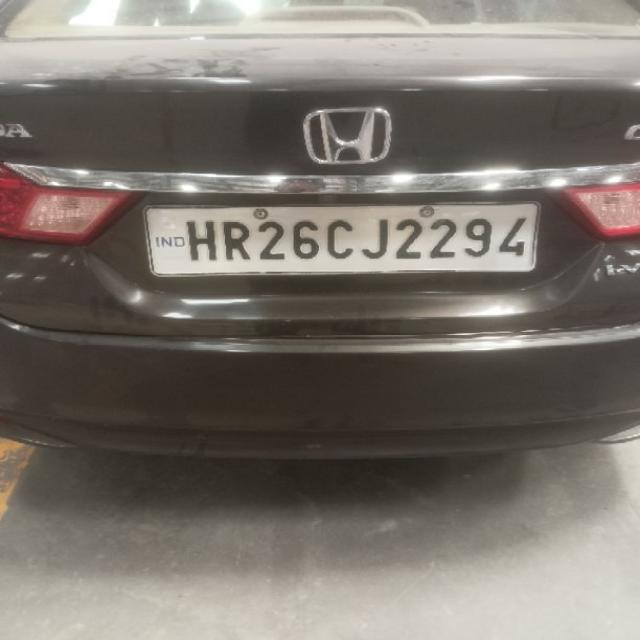license_plate: (142, 199, 541, 276)
